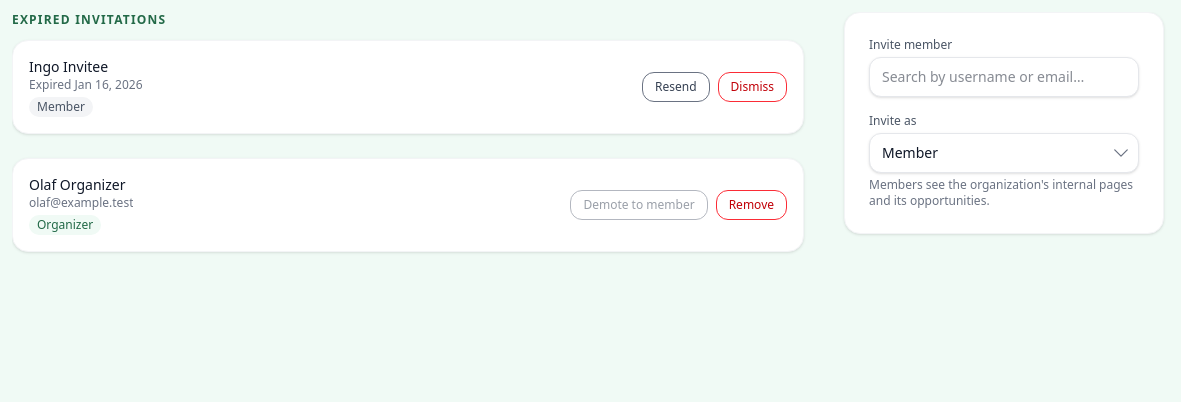
Scenario: OrgMembersPage invitation lifecycle › keeps the row listed when the post-resend refresh fails
Click the button "Resend" at coordinates (676, 87), box [642,72,710,102]
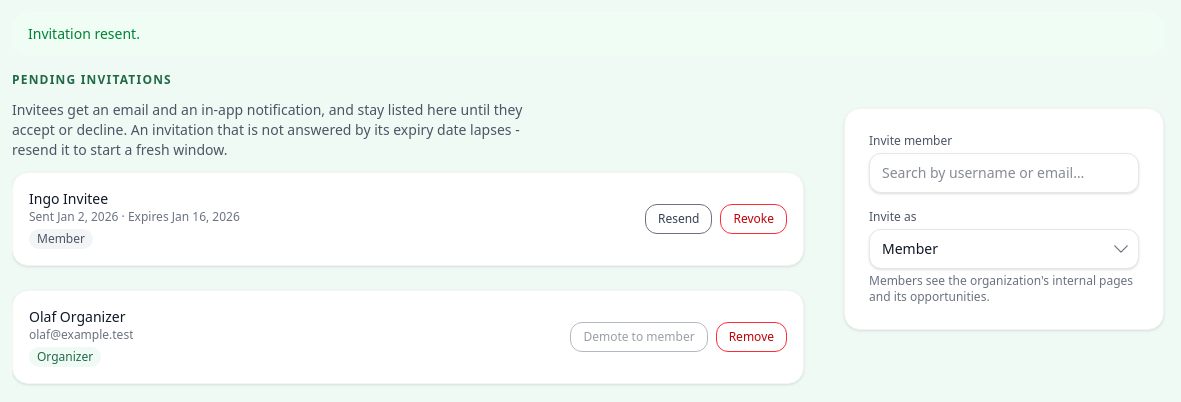
Expected: the heading "Pending invitations" is shown, [12,71,172,88]
